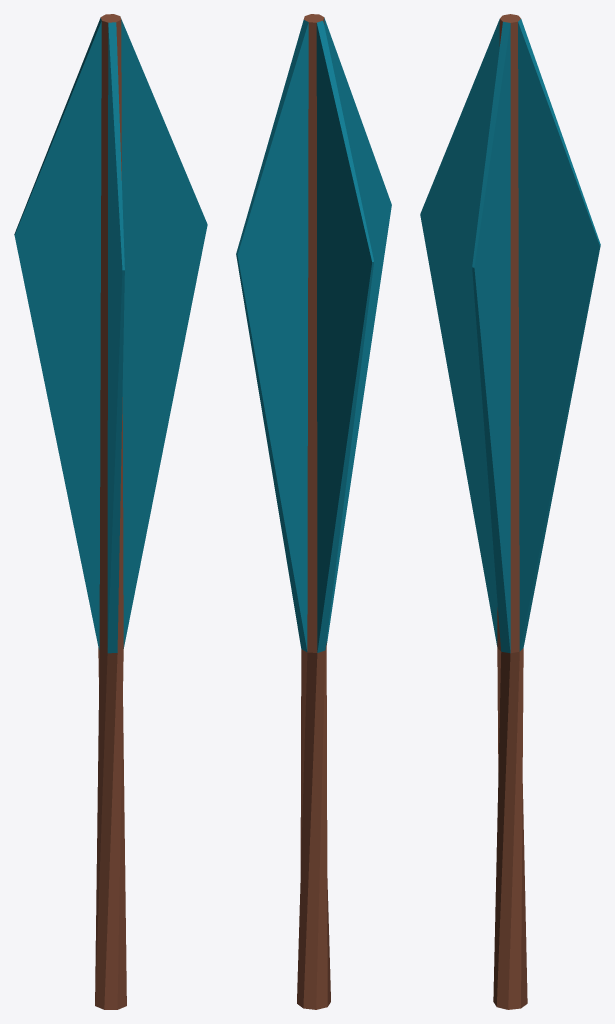
Rendered from Tree_29_summer_blue_mat.fbx.
3 views of the same model, side by side, from view 1: azimuth 30°, elevation 25°; view 2: azimuth 150°, elevation 25°; view 3: azimuth 270°, elevation 25° (orthographic).
Visible parts, largest first — view 1: Tree_29_summer_blue_mat; view 2: Tree_29_summer_blue_mat; view 3: Tree_29_summer_blue_mat.
Part boxes in pixels (x1,y1,x2,y2): Tree_29_summer_blue_mat: [14, 14, 207, 1009]; Tree_29_summer_blue_mat: [236, 14, 391, 1009]; Tree_29_summer_blue_mat: [420, 14, 600, 1009].
Size of the model in its own units: 48.99 by 294 by 48.99.
